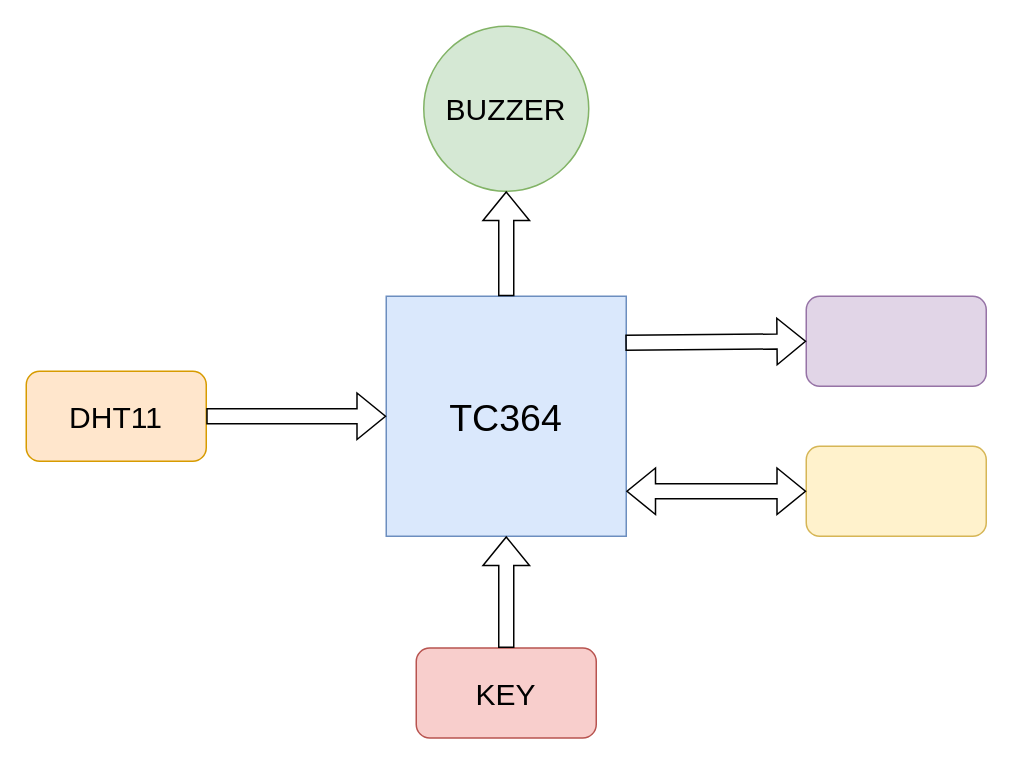
Image size: 1013x765. Some labels were removed from this diagram. The box of each missing label's shape, as (x1, y1, x2, y2) in pixels:
LCD: (805, 295, 986, 386)
PC: (805, 445, 986, 536)
